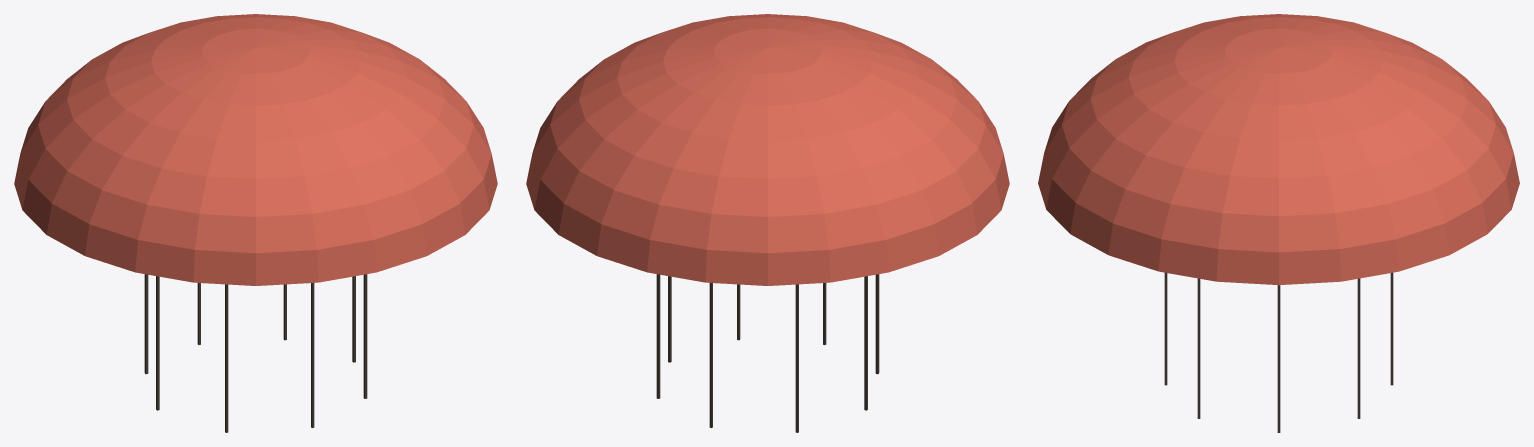
File: SM_Parachute_Canopy.fbx
3 renders of one model, left to right at view 1: azimuth 30°, elevation 25°; view 2: azimuth 150°, elevation 25°; view 3: azimuth 270°, elevation 25°, orthographic.
Visible parts, largest first — view 1: SM_Parachute_Canopy; view 2: SM_Parachute_Canopy; view 3: SM_Parachute_Canopy.
Boxes of the visible parts, x1,y1,x2,y2 form: SM_Parachute_Canopy: (14, 14, 497, 432); SM_Parachute_Canopy: (526, 14, 1009, 432); SM_Parachute_Canopy: (1038, 14, 1519, 432).
Bounding box in the file's own units: 640 × 640 × 493.
